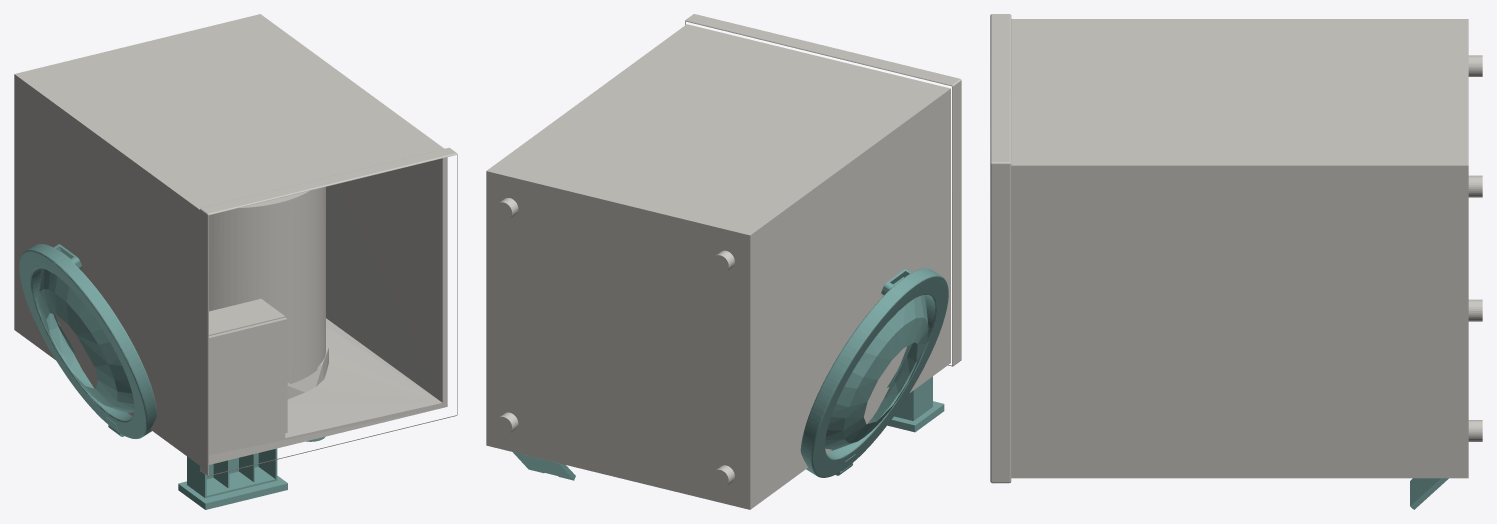
File: wm_af_open_L110.glb
3 views of the same model, side by side, from view 1: azimuth 30°, elevation 25°; view 2: azimuth 150°, elevation 25°; view 3: azimuth 270°, elevation 25° (orthographic). The views are drawn at different scales.
Parts seen in each view (by area): view 1: world; view 2: world; view 3: world.
Boxes of the visible parts, box(x1,y1,x2,y2) form: world: box(14, 14, 457, 509); world: box(486, 14, 961, 509); world: box(990, 14, 1482, 509).
Bounding box in the file's own units: 0.7487 × 0.7135 × 0.85.
